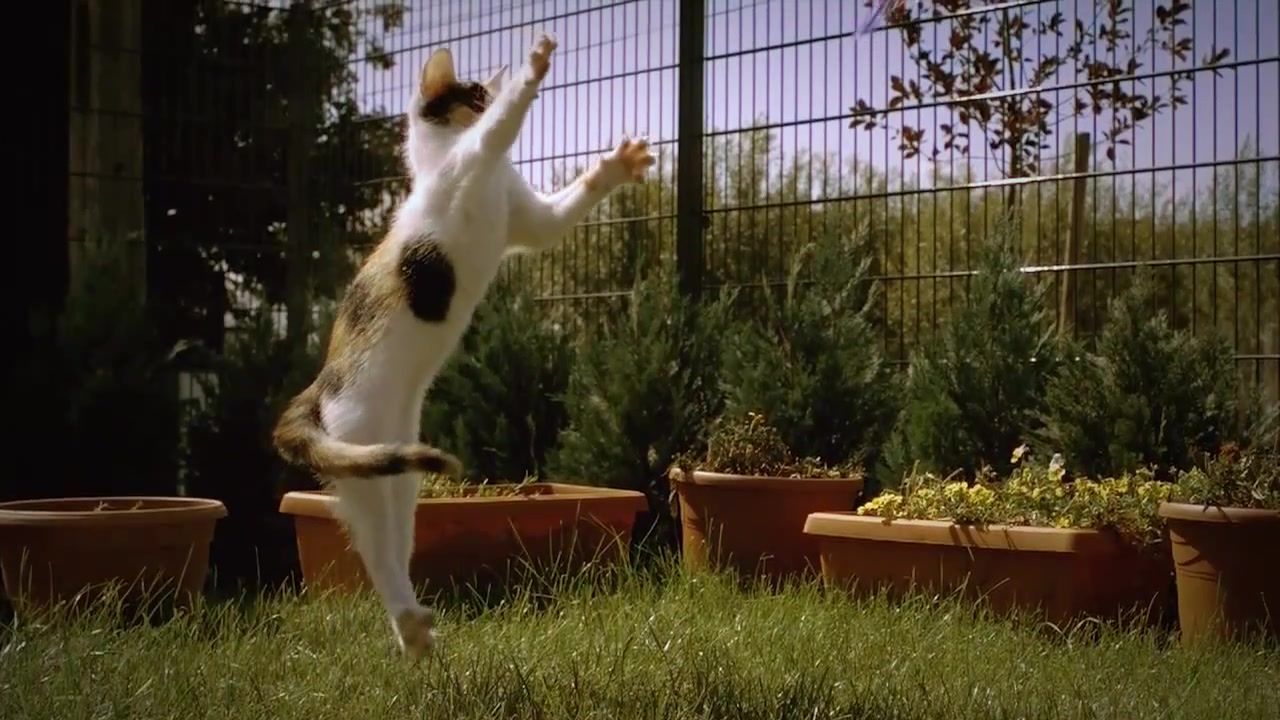cat: (269, 35, 660, 664)
